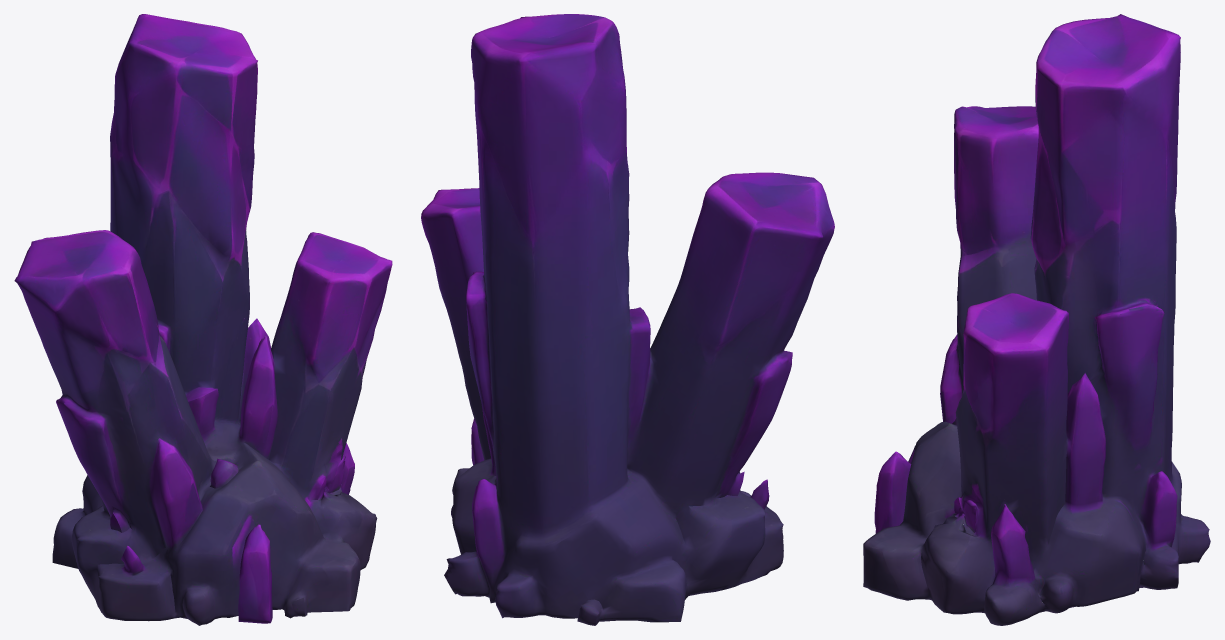
Rendered from star_crystal.glb.
3 renders of one model, left to right at view 1: azimuth 30°, elevation 25°; view 2: azimuth 150°, elevation 25°; view 3: azimuth 270°, elevation 25°, orthographic. The views are drawn at different scales.
Parts seen in each view (by area): view 1: tripo_node_389bcc1e; view 2: tripo_node_389bcc1e; view 3: tripo_node_389bcc1e.
Part boxes in pixels (left/top/right/bottom): tripo_node_389bcc1e: left=14, top=14, right=392, bottom=625; tripo_node_389bcc1e: left=421, top=14, right=834, bottom=625; tripo_node_389bcc1e: left=863, top=14, right=1210, bottom=625.
Bounding box in the file's own units: 75.41 × 99.85 × 59.93.
Materials: 1 (1 with a texture image).
